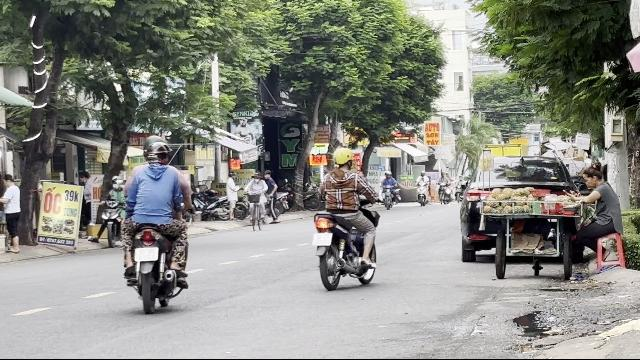helmet: (143, 142, 171, 170), (331, 146, 353, 170)
licenseplate: (134, 247, 158, 261), (312, 232, 332, 246)
motorcyclist: (117, 136, 195, 312), (310, 146, 380, 290)
